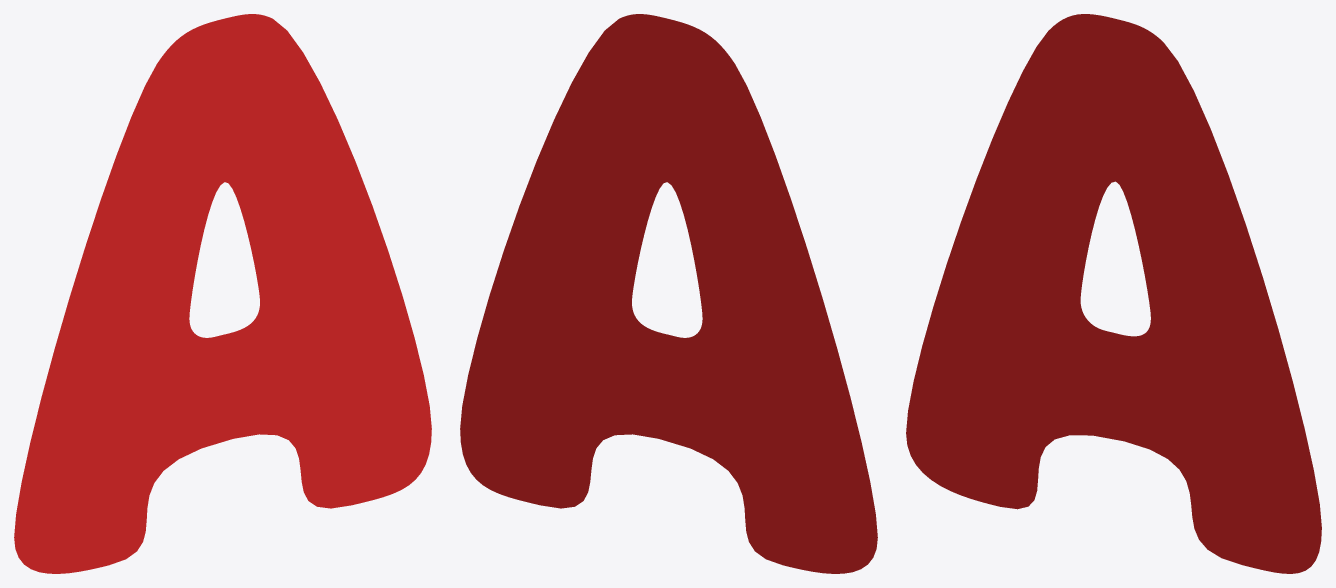
Rendered from UI_Title_A.obj.
3 views of the same model, side by side, from view 1: azimuth 30°, elevation 25°; view 2: azimuth 150°, elevation 25°; view 3: azimuth 330°, elevation 25° (orthographic).
Visible parts, largest first — view 1: テキスト; view 2: テキスト; view 3: テキスト.
Part boxes in pixels (x1,y1,x2,y2): テキスト: (14,14,431,573); テキスト: (460,14,877,573); テキスト: (906,14,1321,573).
Bounding box in the file's own units: 0.4539 × 0.5384 × 0.
Materials: 1 (1 with a texture image).
